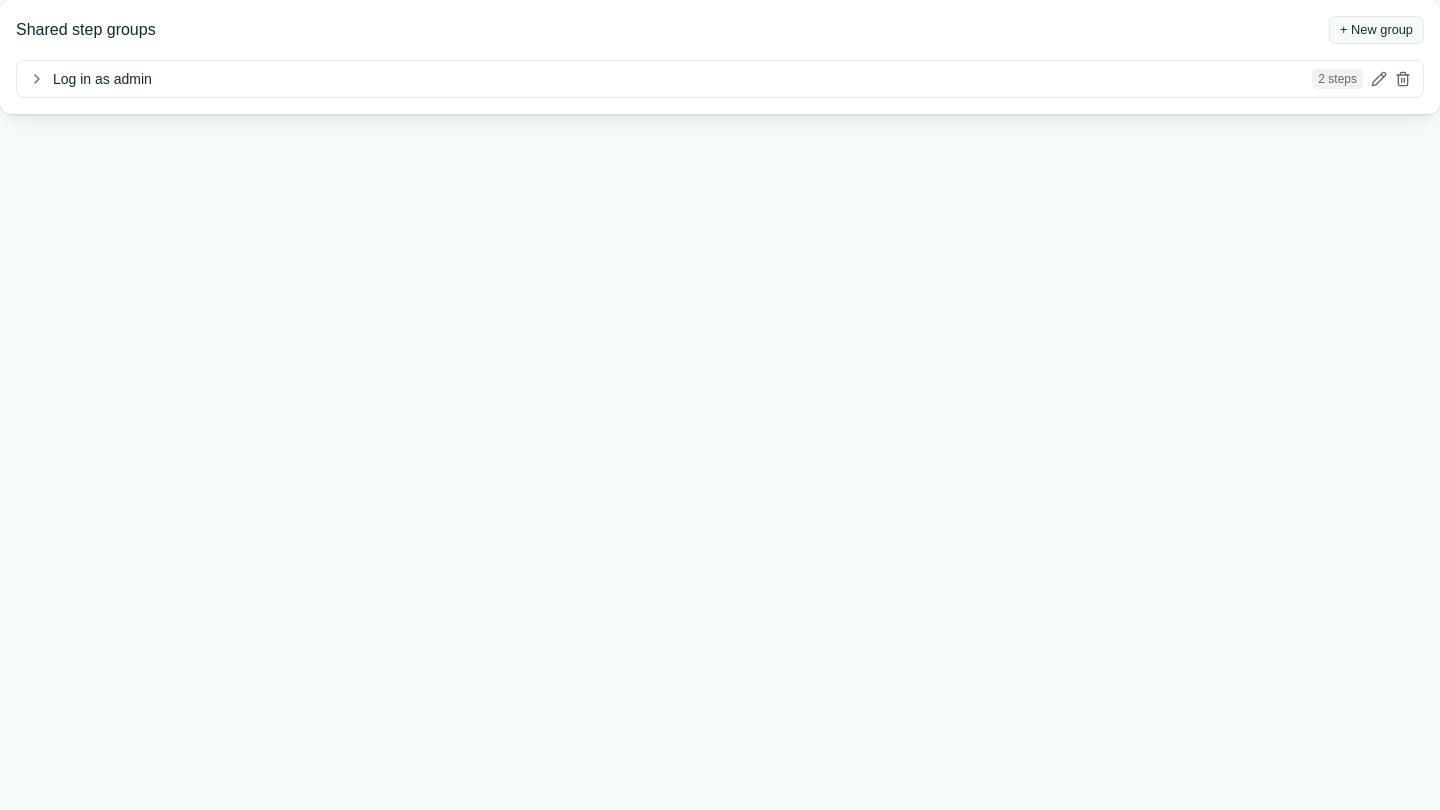
Scenario: StepGroupsCard › shows an error message when saving group step edits fails
Click the button "Log in as admin": (102, 79) top-left (53, 69), bottom-right (1304, 89)
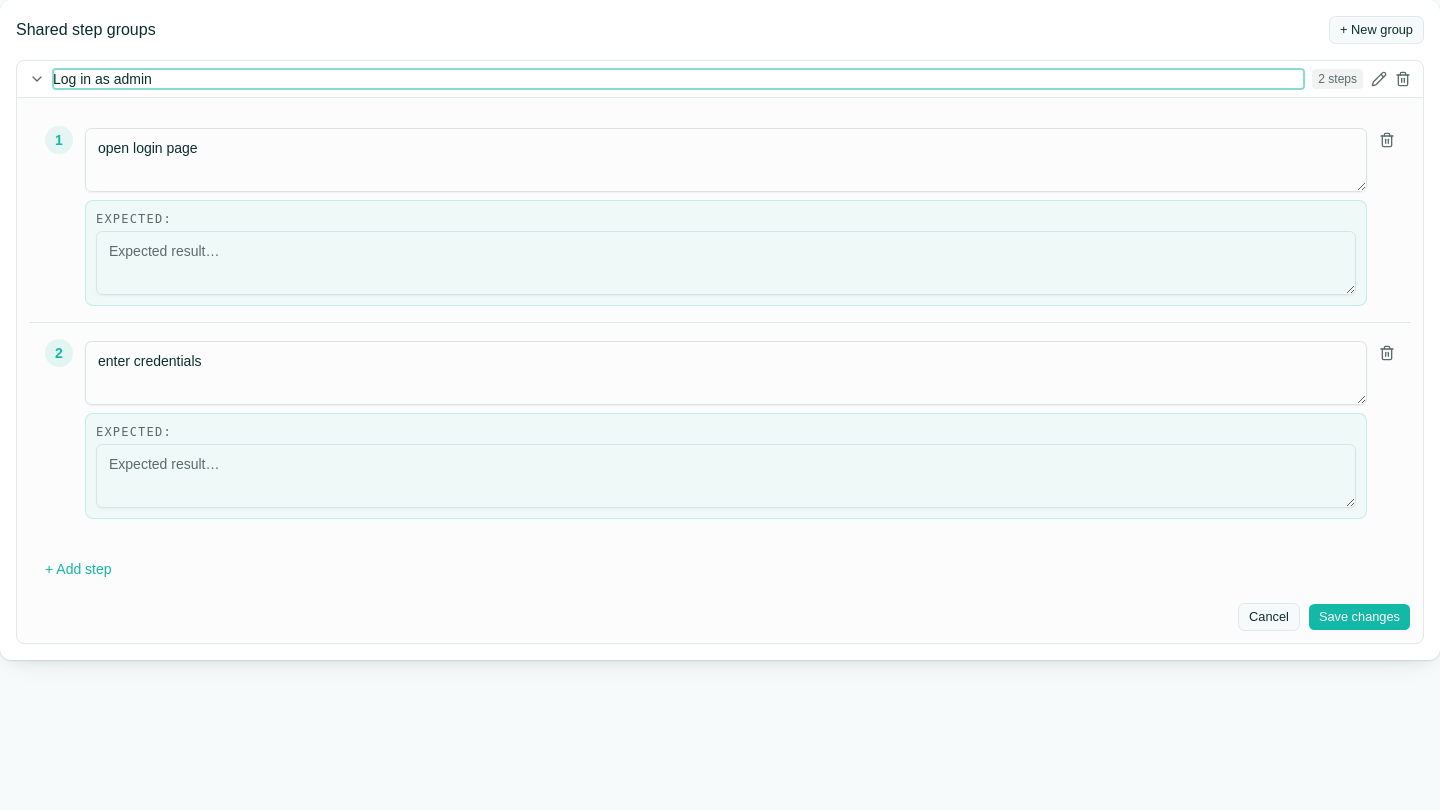
In the text box showing "open login page": (726, 160) top-left (85, 128), bottom-right (1367, 192), type "!"
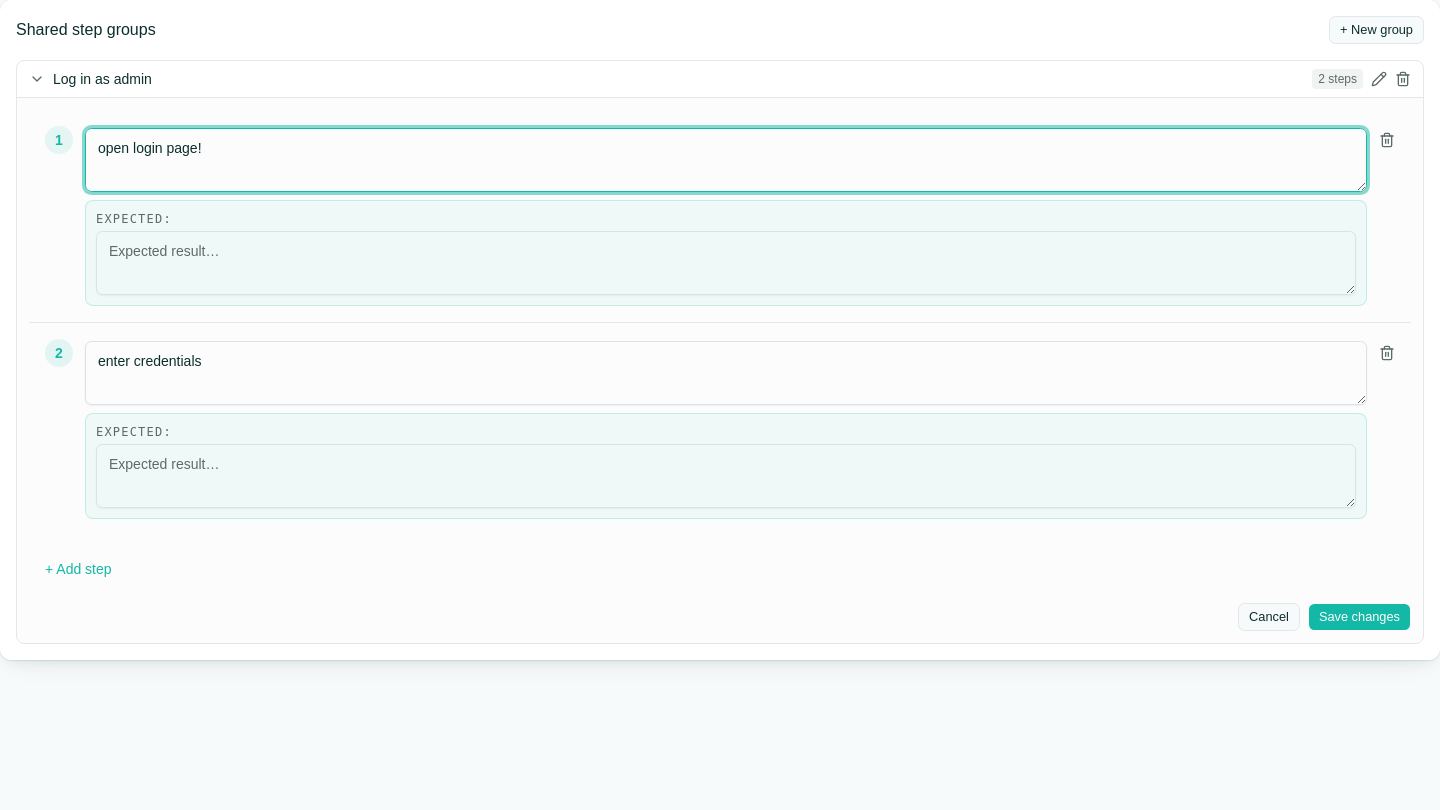
Click the button "Save changes": (1359, 617) top-left (1308, 603), bottom-right (1411, 631)
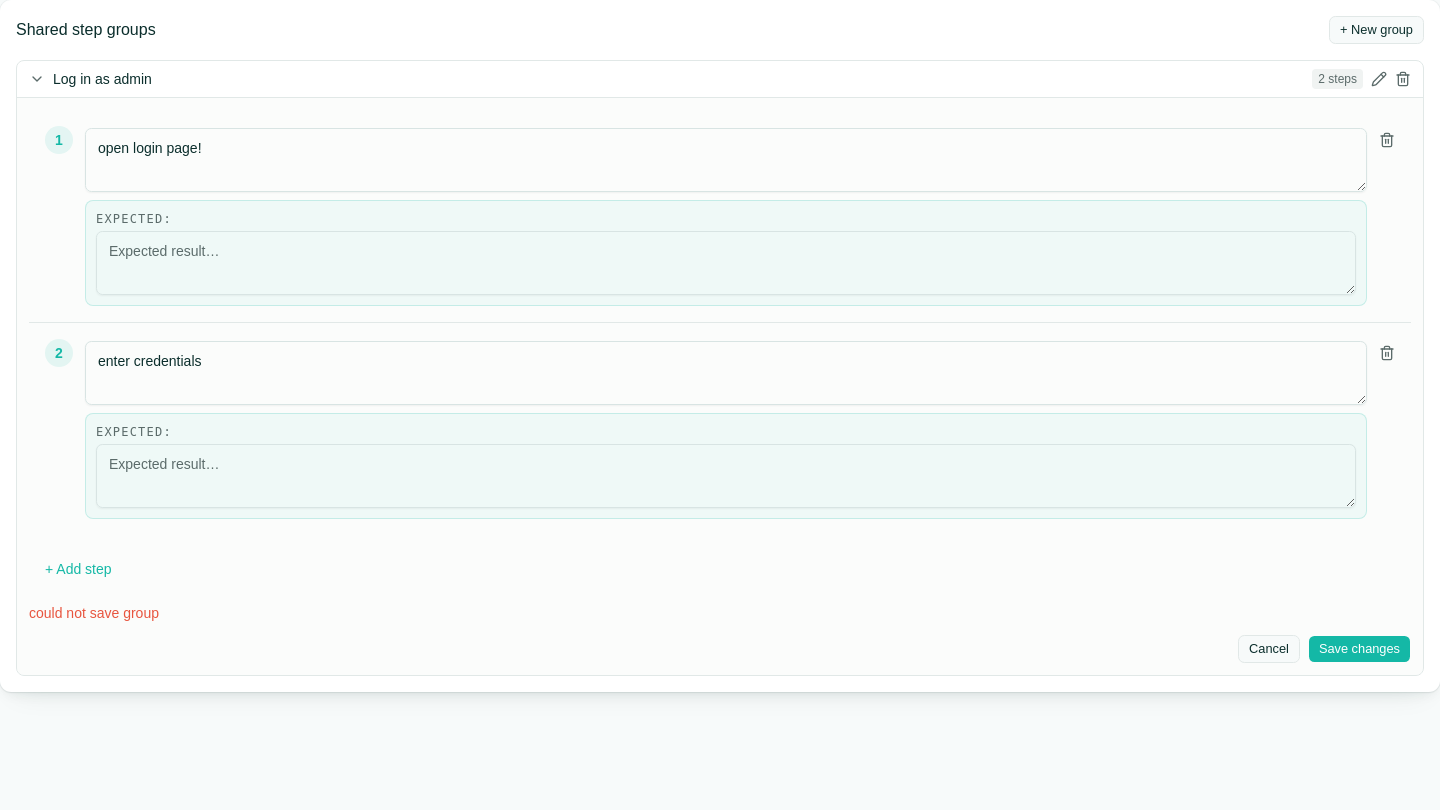
Expected: the text "could not save group" is shown, top-left (29, 605), bottom-right (159, 621)
